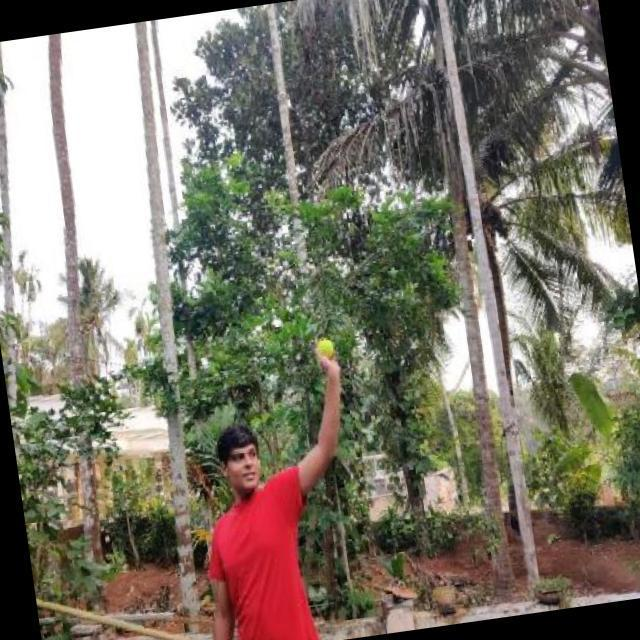-: (308, 314, 352, 380)
